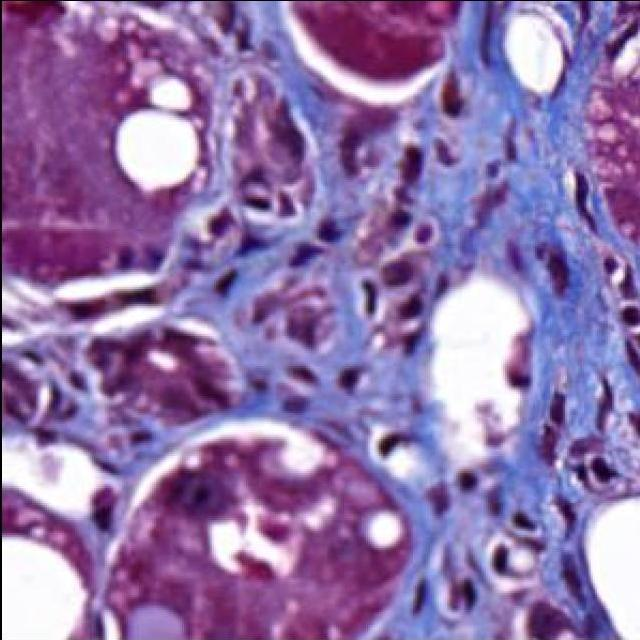inflammation: (602, 252, 640, 376), (90, 487, 116, 531), (315, 218, 341, 242), (338, 368, 361, 394), (389, 209, 410, 230), (456, 471, 476, 491), (620, 306, 640, 325), (194, 488, 208, 502)
